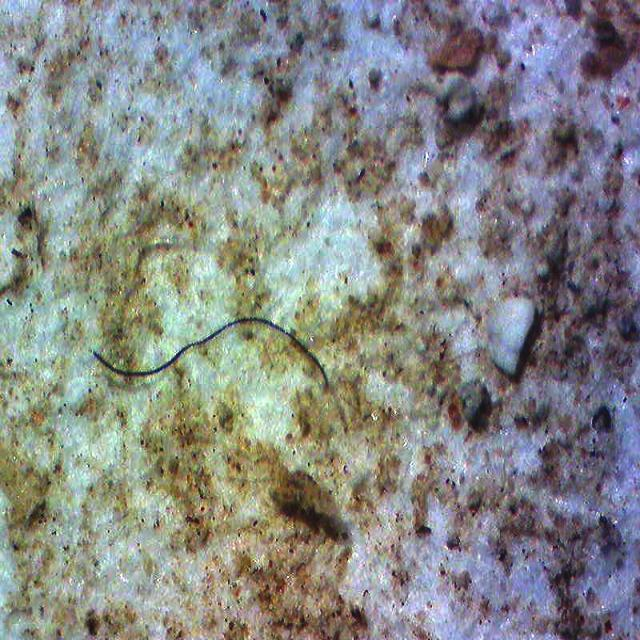microplastic: (91, 318, 329, 394)
